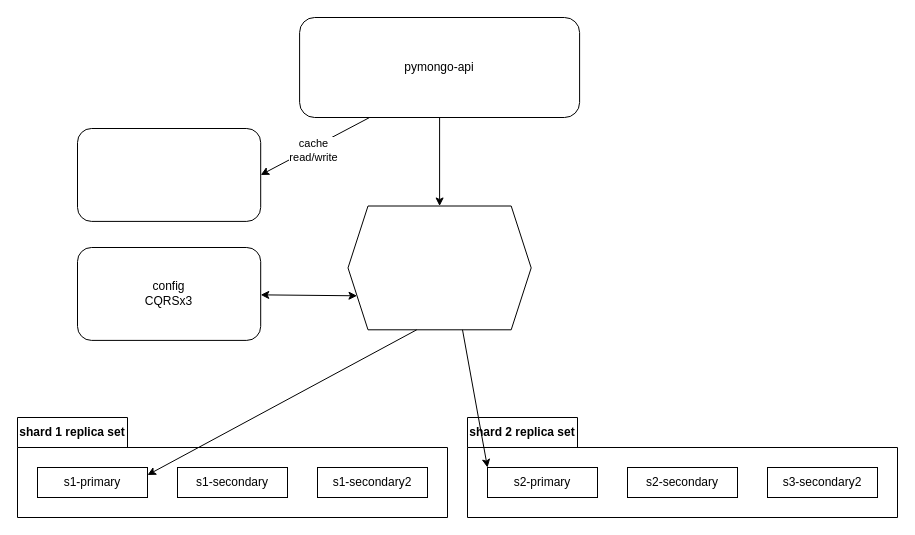
The diagram is 915 pixels wide and 535 high, and some of its shapes have lost their labels. Each missing label, with the box of its shape:
Redis Cluster (cache): (76, 128, 261, 221)
router: (347, 205, 531, 330)
